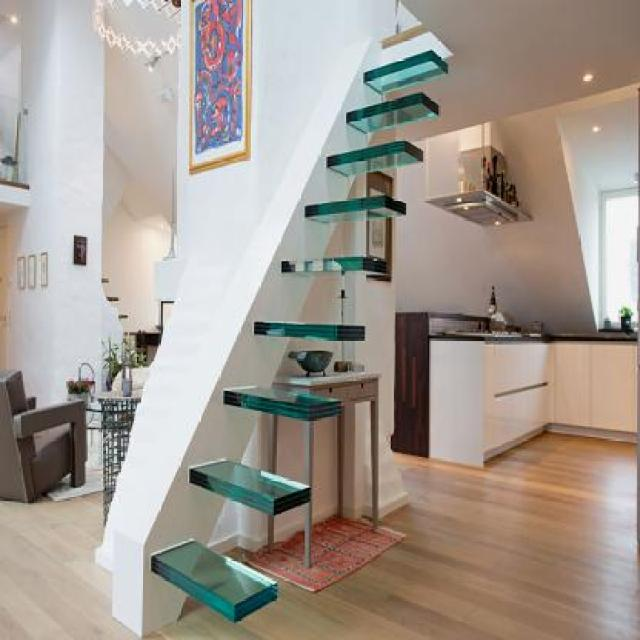stair: (117, 0, 456, 638)
